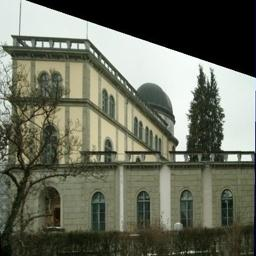building: (9, 29, 256, 231)
